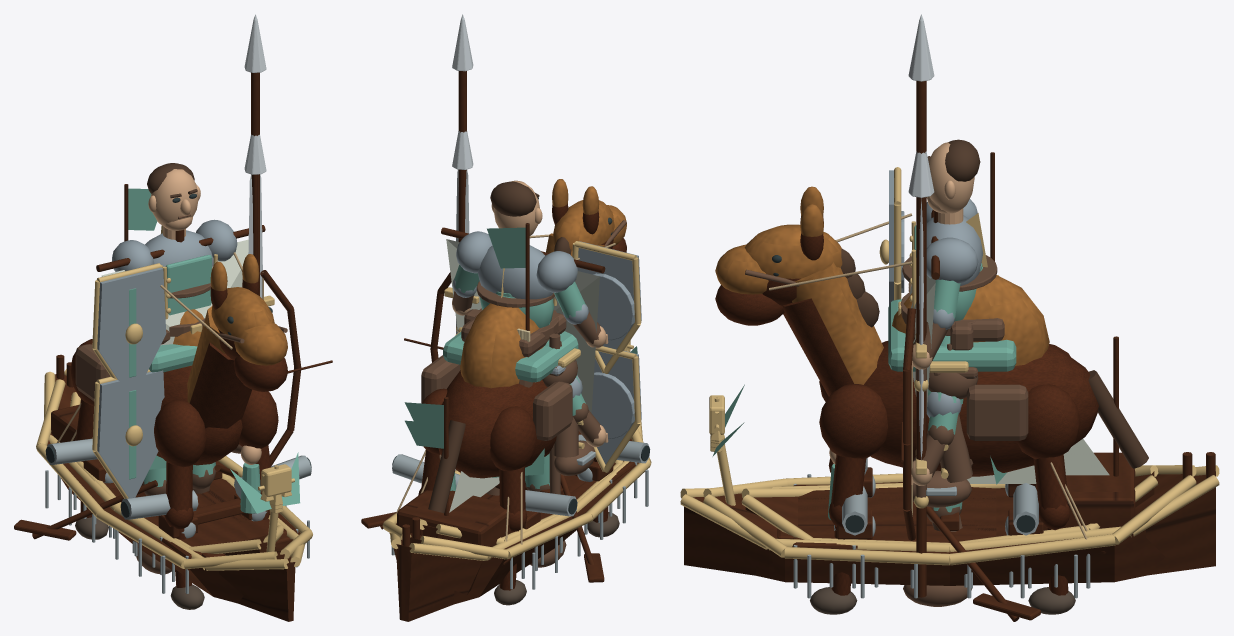
Rendered from armies.glb.
The picture shows the model from 3 angles, left to right: view 1: azimuth 30°, elevation 25°; view 2: azimuth 150°, elevation 25°; view 3: azimuth 270°, elevation 25°; orthographic projection. The views are drawn at different scales.
Visible parts, largest first — view 1: unit_rider, unit_ship, unit_cutter, unit_camel, unit_guardian, unit_boat, unit_gunship, unit_archer, unit_scout, prow_canopy_field, unit_spearman, outfit_canopy_ceremonial (+1 smaller); view 2: unit_rider, unit_ship, unit_camel, unit_cutter, unit_spearman, unit_gunship, unit_boat, unit_scout, unit_guardian, outfit_canopy_ceremonial, prow_canopy_ceremonial, prow_canopy_veteran (+2 smaller); view 3: unit_rider, unit_ship, unit_cutter, unit_camel, unit_boat, unit_scout, unit_gunship, unit_spearman, unit_archer, prow_canopy_field.
Part boxes in pixels (<box>): unit_rider: <box>70,163,287,609</box>; unit_ship: <box>36,225,312,603</box>; unit_cutter: <box>44,228,305,621</box>; unit_camel: <box>173,14,287,402</box>; unit_guardian: <box>92,369,164,498</box>; unit_boat: <box>14,392,283,581</box>; unit_gunship: <box>45,438,311,538</box>; unit_archer: <box>260,270,332,466</box>; unit_scout: <box>136,455,216,574</box>; prow_canopy_field: <box>230,452,300,552</box>; unit_spearman: <box>244,134,266,295</box>; outfit_canopy_ceremonial: <box>124,184,157,241</box>; unit_rider: <box>418,169,641,605</box>; unit_ship: <box>382,227,651,604</box>; unit_camel: <box>452,14,634,388</box>; unit_cutter: <box>390,228,642,621</box>; unit_spearman: <box>452,131,634,438</box>; unit_gunship: <box>392,434,650,529</box>; unit_boat: <box>361,431,622,582</box>; unit_scout: <box>487,360,608,567</box>; unit_guardian: <box>593,346,641,472</box>; outfit_canopy_ceremonial: <box>487,223,535,462</box>; prow_canopy_ceremonial: <box>404,397,448,515</box>; prow_canopy_veteran: <box>405,417,448,515</box>; unit_rider: <box>715,139,1148,614</box>; unit_ship: <box>703,210,1196,598</box>; unit_cutter: <box>680,237,1219,588</box>; unit_camel: <box>715,14,1049,459</box>; unit_boat: <box>741,465,1158,621</box>; unit_scout: <box>903,372,978,606</box>; unit_gunship: <box>834,458,1043,539</box>; unit_spearman: <box>908,151,934,597</box>; unit_archer: <box>901,275,998,540</box>; prow_canopy_field: <box>712,384,744,505</box>.
Bounding box in the file's own units: 0.7272 × 1.43 × 1.13.
17 materials, 4 textured.
